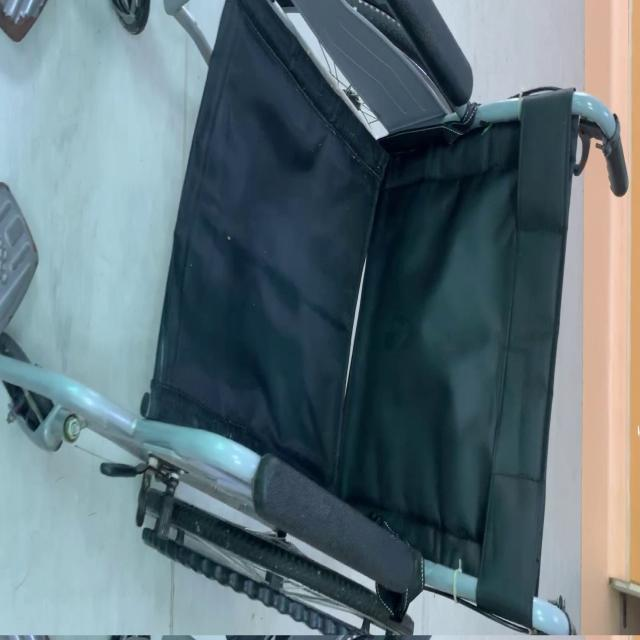wheelchair: (4, 0, 633, 640)
